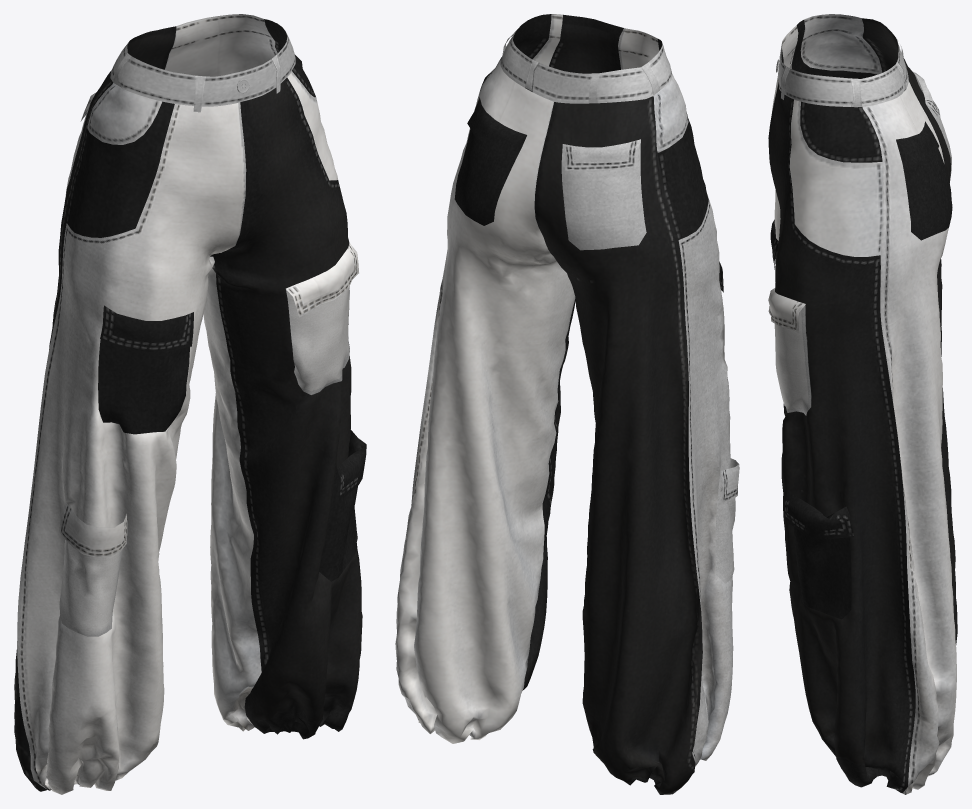
3 renders of one model, left to right at view 1: azimuth 30°, elevation 25°; view 2: azimuth 150°, elevation 25°; view 3: azimuth 270°, elevation 25°, orthographic. The views are drawn at different scales.
Visible parts, largest first — view 1: Object_4, Object_3; view 2: Object_4, Object_3; view 3: Object_3, Object_4.
Part boxes in pixels (x1,y1,x2,y2): Object_4: [17, 14, 358, 794]; Object_3: [14, 19, 366, 791]; Object_4: [395, 14, 739, 766]; Object_3: [454, 14, 723, 794]; Object_3: [768, 18, 957, 792]; Object_4: [768, 14, 956, 794].
Size of the model in its own units: 18.18 by 40.93 by 10.16.
3 materials, 3 textured.
